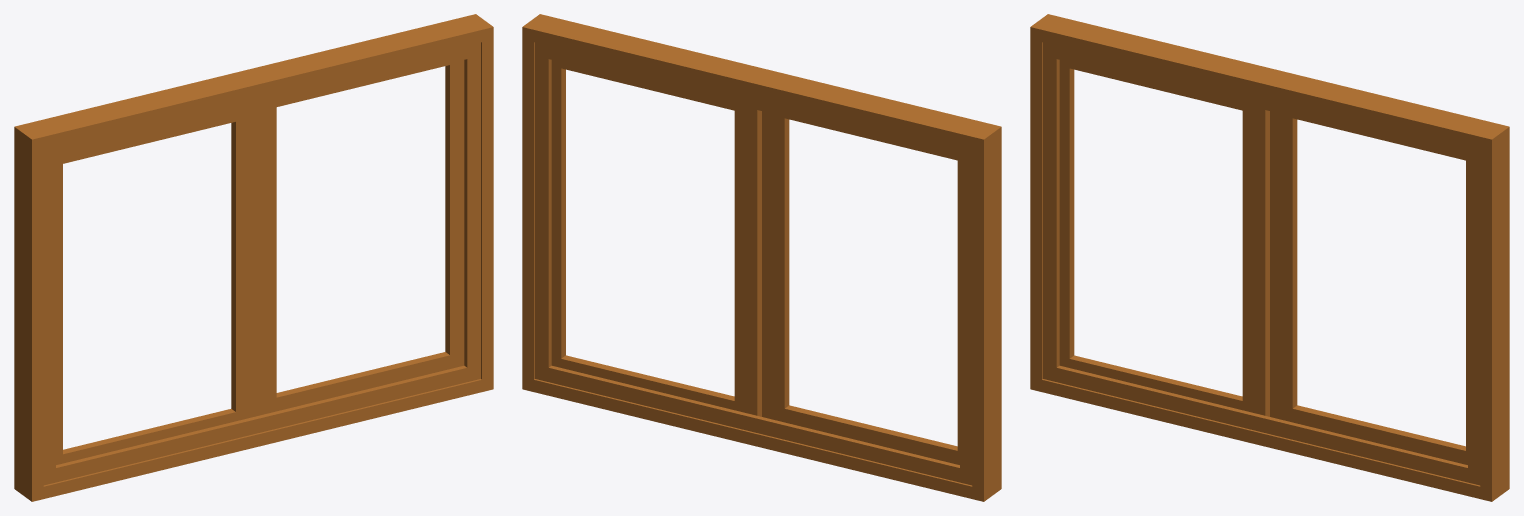
The model's file is Window_Slider_48x36_2.obj.
The picture shows the model from 3 angles, left to right: view 1: azimuth 30°, elevation 25°; view 2: azimuth 150°, elevation 25°; view 3: azimuth 330°, elevation 25°; orthographic projection.
Size of the model in its own units: 1.22 by 0.9144 by 0.0813.
